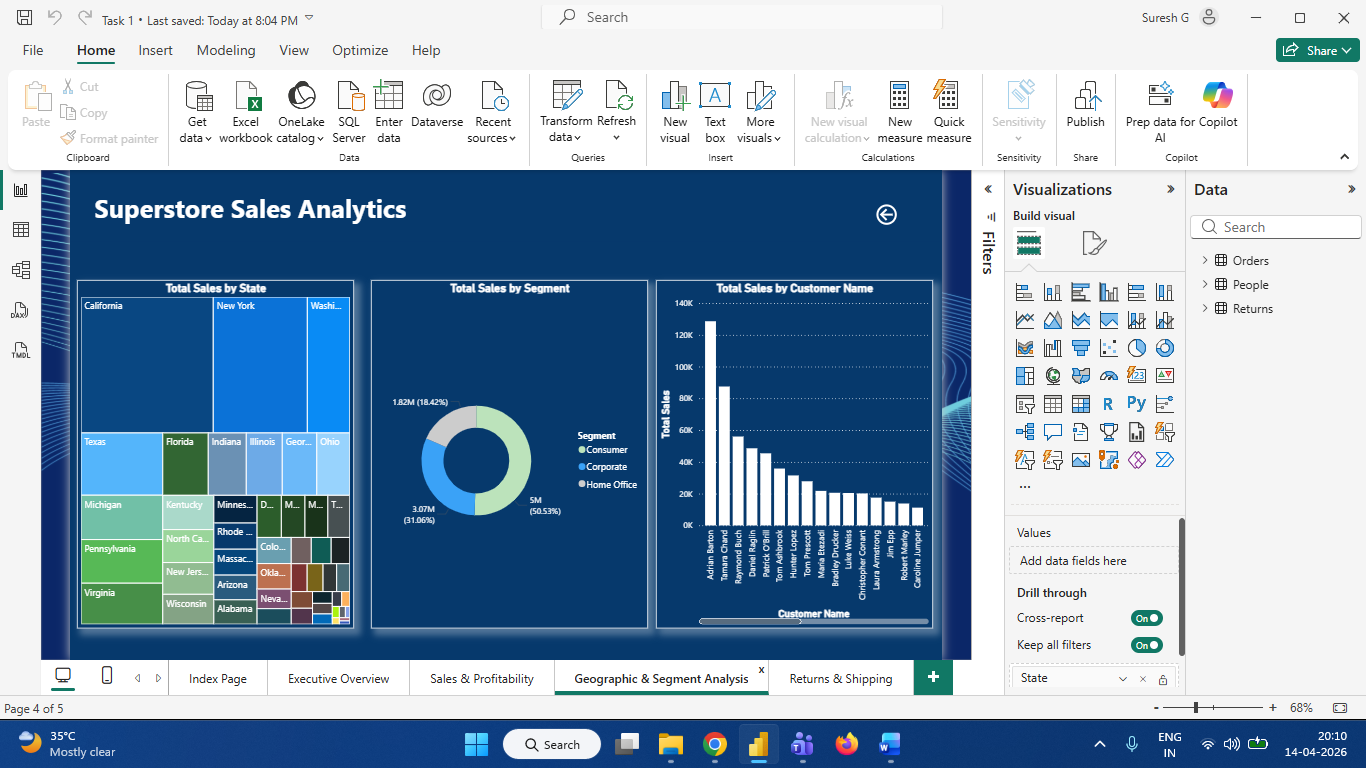

This screenshot's page, from the dashboard's own definition file:
{"tool":"powerbi","page":{"name":"Geographic & Segment Analysis","canvas":[1280,720],"ordinal":3},"visuals":[{"type":"textbox","box":[0,25,1280,80],"z":0},{"type":"treemap","fields":{"Group":["Orders.State"],"Values":["Orders.Total Sales"]},"box":[10,161.7,406.7,511.7],"z":1000},{"type":"donutChart","fields":{"Category":["Orders.Segment"],"Y":["Orders.Total Sales"]},"box":[441.7,161.7,406.7,511.7],"z":2000},{"type":"actionButton","box":[1180,45,71.7,40],"z":3000},{"type":"clusteredColumnChart","fields":{"Category":["Orders.Customer Name"],"Y":["Orders.Total Sales"]},"box":[861.7,161.7,406.7,511.7],"z":4000}]}

Visuals, with their boxes on the page's 1280x720 design canvas (x1, y1, x2, y2). These are canvas units, not pixel positions in the 1366x768 screenshot, which may show the page scaled, cropped or inside an application window:
textbox: bbox=(0, 25, 1280, 105)
treemap - Orders.State x Orders.Total Sales: bbox=(10, 162, 417, 673)
donutChart - Orders.Segment x Orders.Total Sales: bbox=(442, 162, 848, 673)
actionButton: bbox=(1180, 45, 1252, 85)
clusteredColumnChart - Orders.Customer Name x Orders.Total Sales: bbox=(862, 162, 1268, 673)
